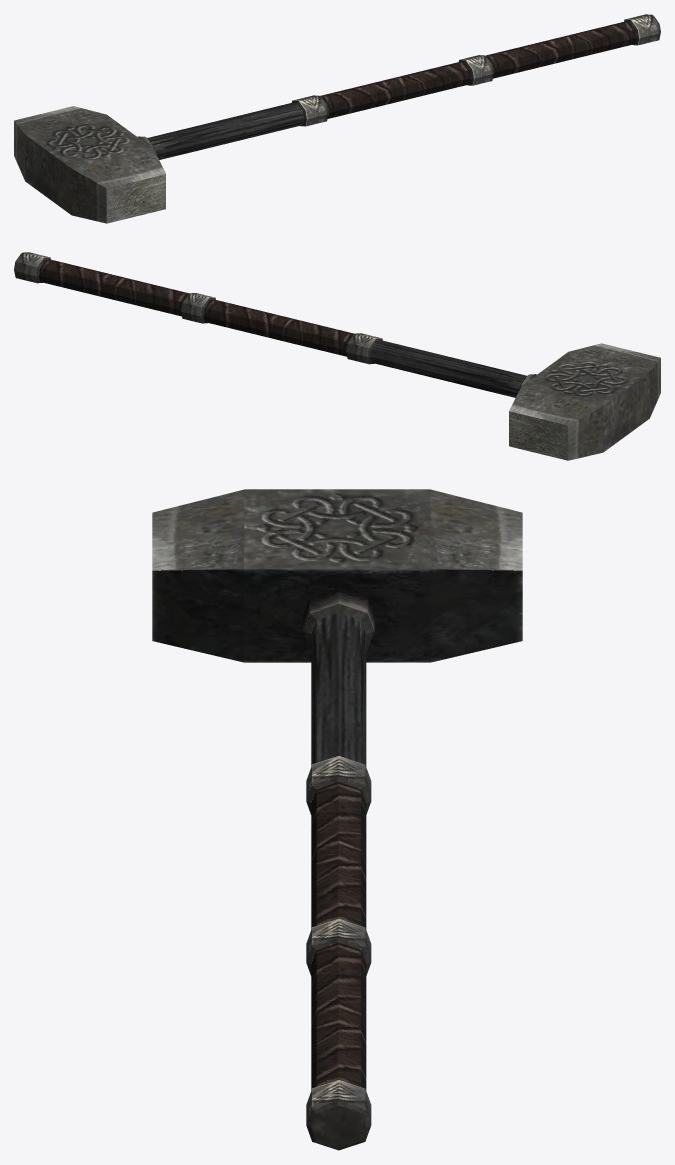
File: KM_ITMW_1H_HAMMER_01.glb
The picture shows the model from 3 angles, top to bottom: view 1: azimuth 30°, elevation 25°; view 2: azimuth 150°, elevation 25°; view 3: azimuth 270°, elevation 25°; orthographic projection. The views are drawn at different scales.
Visible parts, largest first — view 1: KM_ITMW_1H_HAMMER_01; view 2: KM_ITMW_1H_HAMMER_01; view 3: KM_ITMW_1H_HAMMER_01.
Boxes of the visible parts, x1,y1,x2,y2 form: KM_ITMW_1H_HAMMER_01: (14,14,660,223); KM_ITMW_1H_HAMMER_01: (14,252,660,460); KM_ITMW_1H_HAMMER_01: (152,489,522,1150).
Bounding box in the file's own units: 1.06 × 0.0786 × 0.2822.
Materials: 4 (4 with a texture image).
